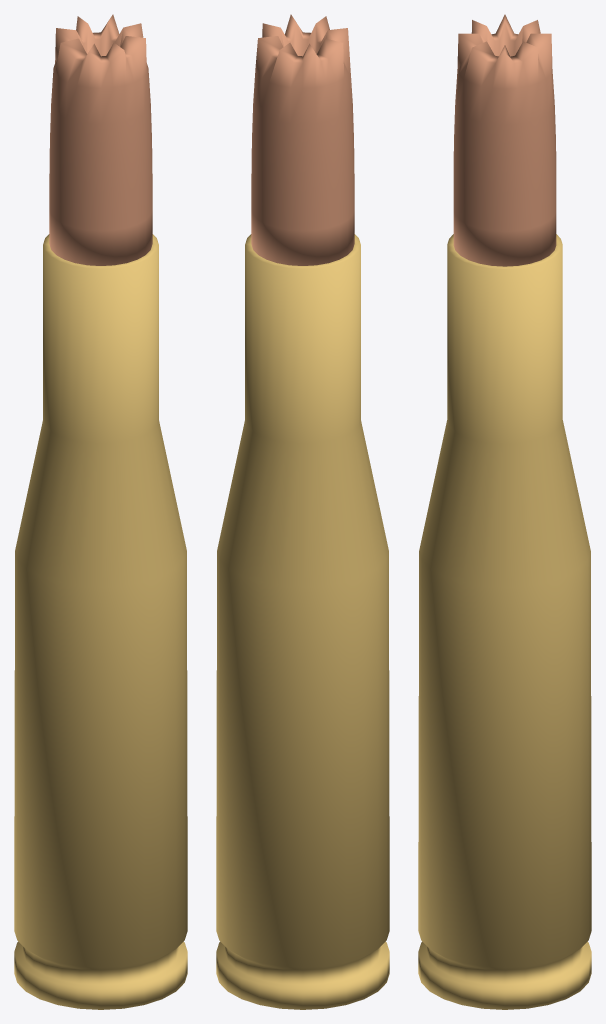
3 views of the same model, side by side, from view 1: azimuth 30°, elevation 25°; view 2: azimuth 150°, elevation 25°; view 3: azimuth 270°, elevation 25° (orthographic).
Parts seen in each view (by area): view 1: vaina, bala_flor; view 2: vaina, bala_flor; view 3: vaina, bala_flor.
Part boxes in pixels (x1,y1,x2,y2): vaina: (14,234,187,1009); bala_flor: (49,14,152,265); vaina: (216,234,389,1009); bala_flor: (251,14,354,265); vaina: (418,234,591,1009); bala_flor: (453,14,556,266).
Size of the model in its own units: 0.0096 by 0.0574 by 0.0096.
